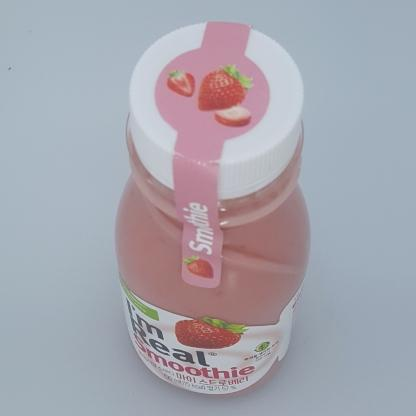--------------------190ML: (115, 21, 311, 397)
